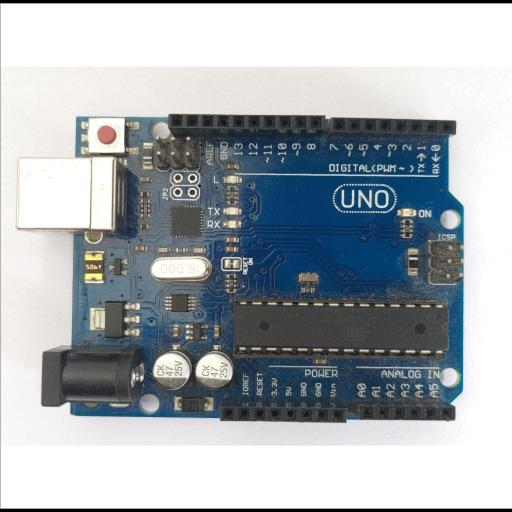Arduino Uno R3: (16, 113, 466, 423)
